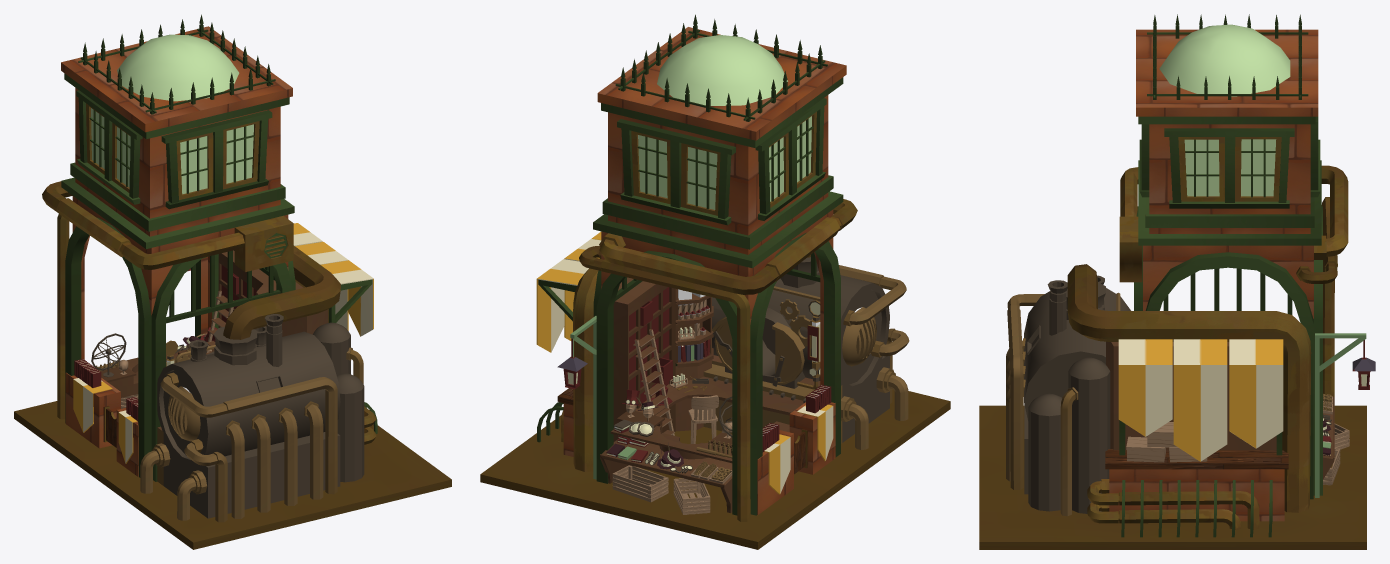
3 views of the same model, side by side, from view 1: azimuth 30°, elevation 25°; view 2: azimuth 150°, elevation 25°; view 3: azimuth 270°, elevation 25° (orthographic). The views are drawn at different scales.
Visible parts, largest first — view 1: TopPipes___UVD.001_21_1Envrio, TopPipes___UVD.001_21_2propt; view 2: TopPipes___UVD.001_21_1Envrio, TopPipes___UVD.001_21_2propt; view 3: TopPipes___UVD.001_21_1Envrio, TopPipes___UVD.001_21_2propt.
Boxes of the visible parts, x1,y1,x2,y2 form: TopPipes___UVD.001_21_1Envrio: (14,14,451,549); TopPipes___UVD.001_21_2propt: (74,250,364,522); TopPipes___UVD.001_21_1Envrio: (480,14,950,549); TopPipes___UVD.001_21_2propt: (557,257,909,514); TopPipes___UVD.001_21_1Envrio: (979,14,1366,549); TopPipes___UVD.001_21_2propt: (1006,275,1375,516).
Bounding box in the file's own units: 11.47 × 17.04 × 14.06.
